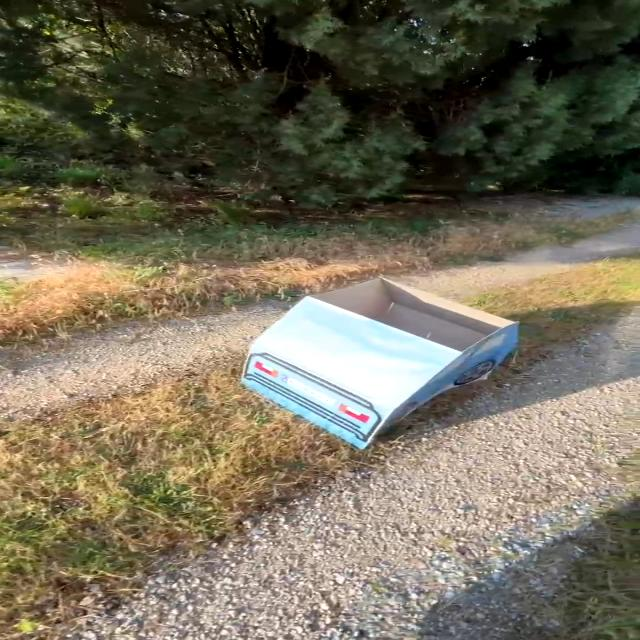blue_car: (205, 254, 569, 475)
